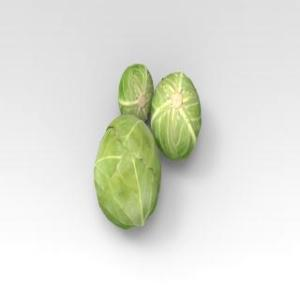cabbage: (94, 114, 163, 232), (150, 70, 202, 164), (118, 62, 154, 124)
